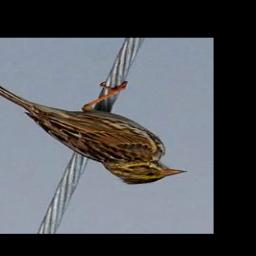Sparrow: (0, 80, 189, 187)
